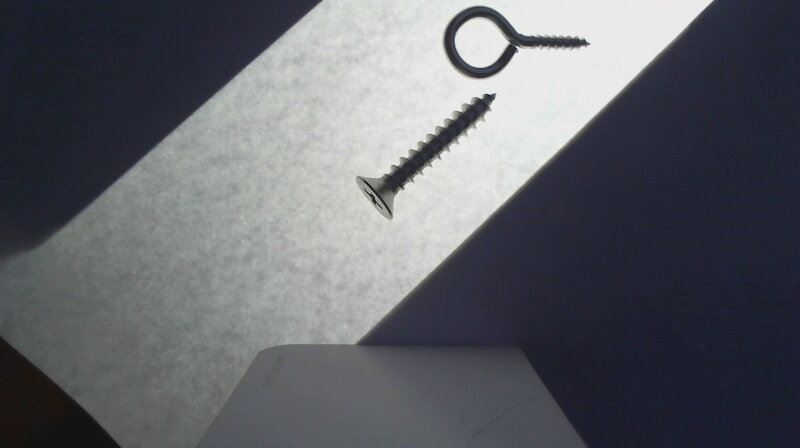O001: (441, 4, 590, 78)
S001: (353, 89, 498, 222)
